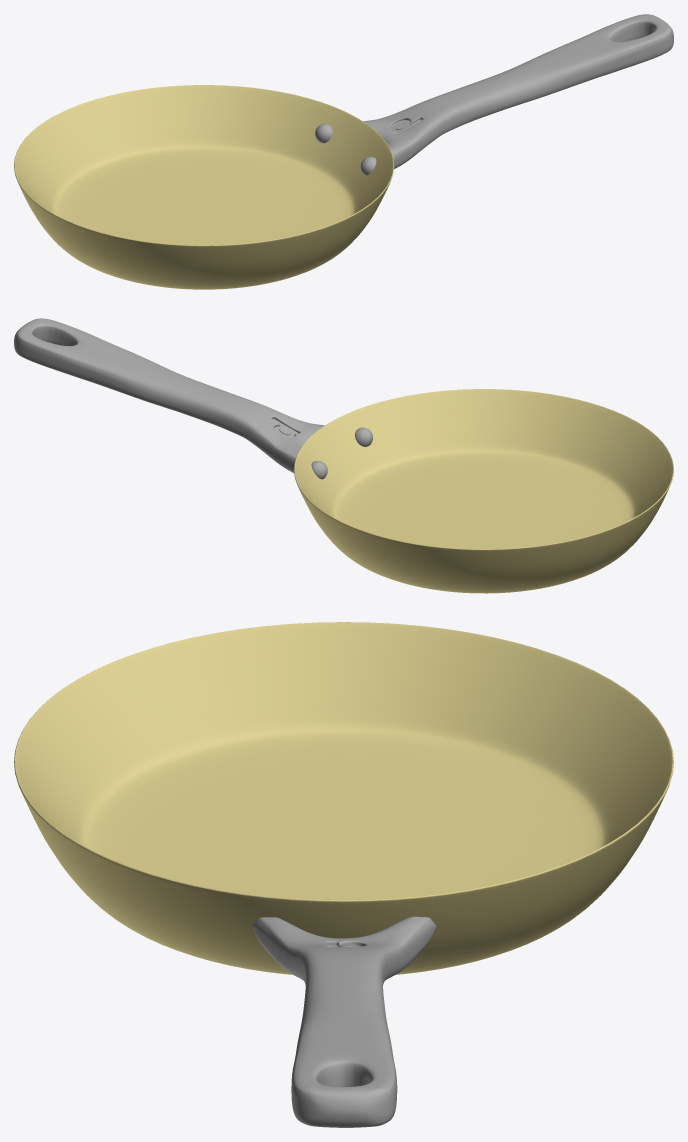
The model's file is 8inch_fry.glb.
3 renders of one model, top to bottom at view 1: azimuth 30°, elevation 25°; view 2: azimuth 150°, elevation 25°; view 3: azimuth 270°, elevation 25°, orthographic. The views are drawn at different scales.
Parts seen in each view (by area): view 1: pan_body_geo, handle_geo; view 2: pan_body_geo, handle_geo; view 3: pan_body_geo, handle_geo.
Boxes of the visible parts, box(x1,y1,x2,y2) form: pan_body_geo: box(14, 85, 394, 289); handle_geo: box(363, 14, 673, 168); pan_body_geo: box(294, 389, 673, 593); handle_geo: box(14, 318, 324, 472); pan_body_geo: box(14, 622, 673, 974); handle_geo: box(252, 916, 436, 1127).
Bounding box in the file's own units: 0.4054 × 0.0623 × 0.2123.
